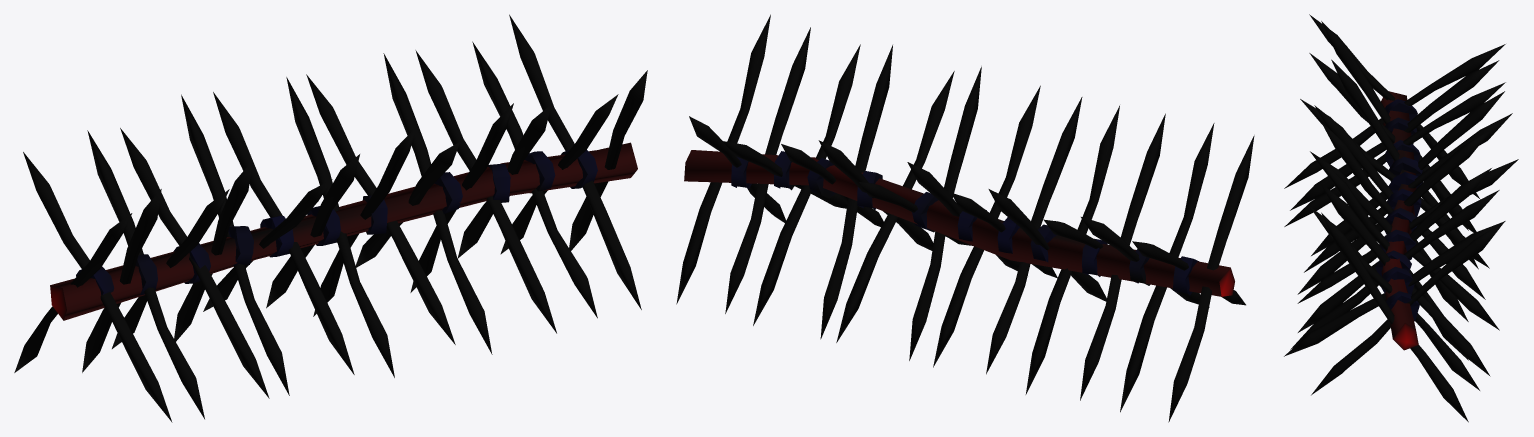
Rendered from SM_Barracade.fbx.
The picture shows the model from 3 angles, left to right: view 1: azimuth 30°, elevation 25°; view 2: azimuth 150°, elevation 25°; view 3: azimuth 270°, elevation 25°; orthographic projection. The views are drawn at different scales.
Visible parts, largest first — view 1: Barracade; view 2: Barracade; view 3: Barracade.
Part boxes in pixels (left/top/right/bottom): Barracade: left=14, top=14, right=647, bottom=422; Barracade: left=676, top=14, right=1254, bottom=422; Barracade: left=1284, top=14, right=1518, bottom=422.
Bounding box in the file's own units: 716 × 301 × 312.
